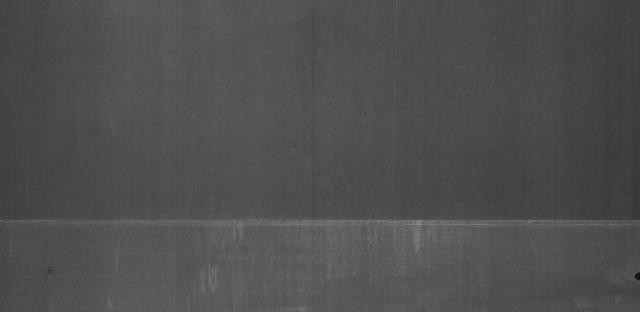welding_line: (1, 205, 640, 238)
